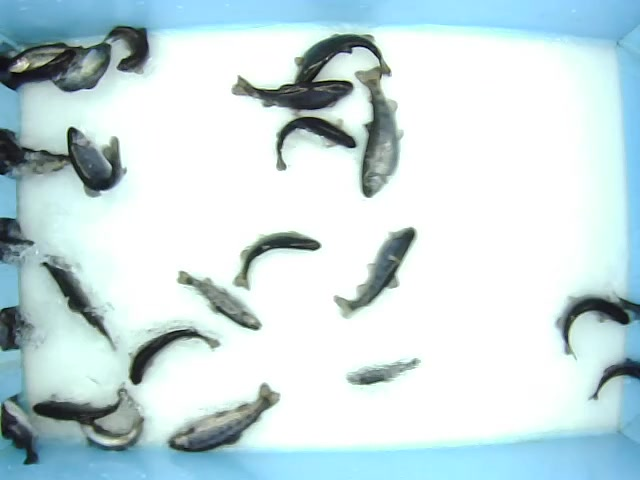fish: (165, 378, 280, 456), (348, 62, 407, 197), (333, 225, 417, 319), (40, 255, 115, 347), (174, 268, 264, 332), (127, 326, 220, 386), (292, 34, 392, 89), (233, 230, 322, 291), (553, 295, 632, 361), (271, 115, 358, 173), (65, 125, 130, 199), (228, 73, 354, 111), (32, 387, 122, 420), (75, 416, 151, 452), (103, 23, 153, 77), (345, 354, 422, 387)
